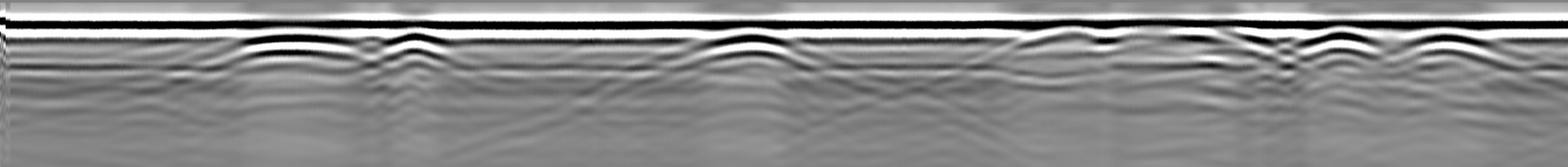pipe: (235, 23, 359, 48), (1292, 18, 1395, 48), (1400, 20, 1499, 49), (695, 20, 796, 48), (1018, 20, 1103, 46), (378, 21, 453, 48)
